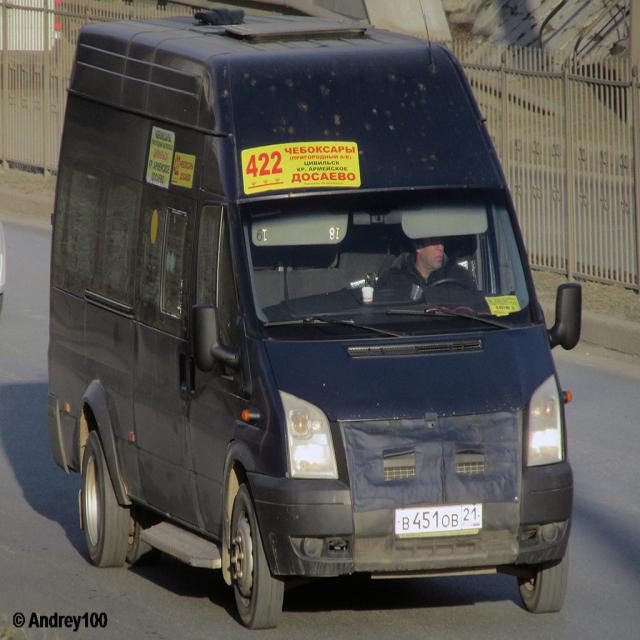number-of-bus: (245, 144, 289, 190)
